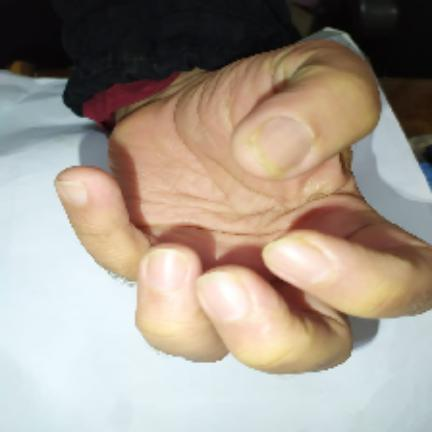Nail: (250, 116, 312, 178), (263, 238, 330, 284), (197, 271, 250, 321), (147, 248, 186, 289), (55, 181, 88, 206)
